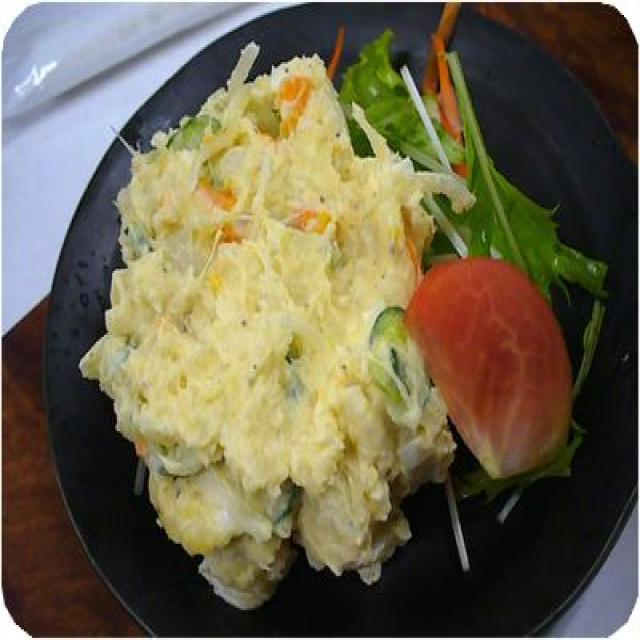蔬菜料理: (27, 0, 640, 640)
